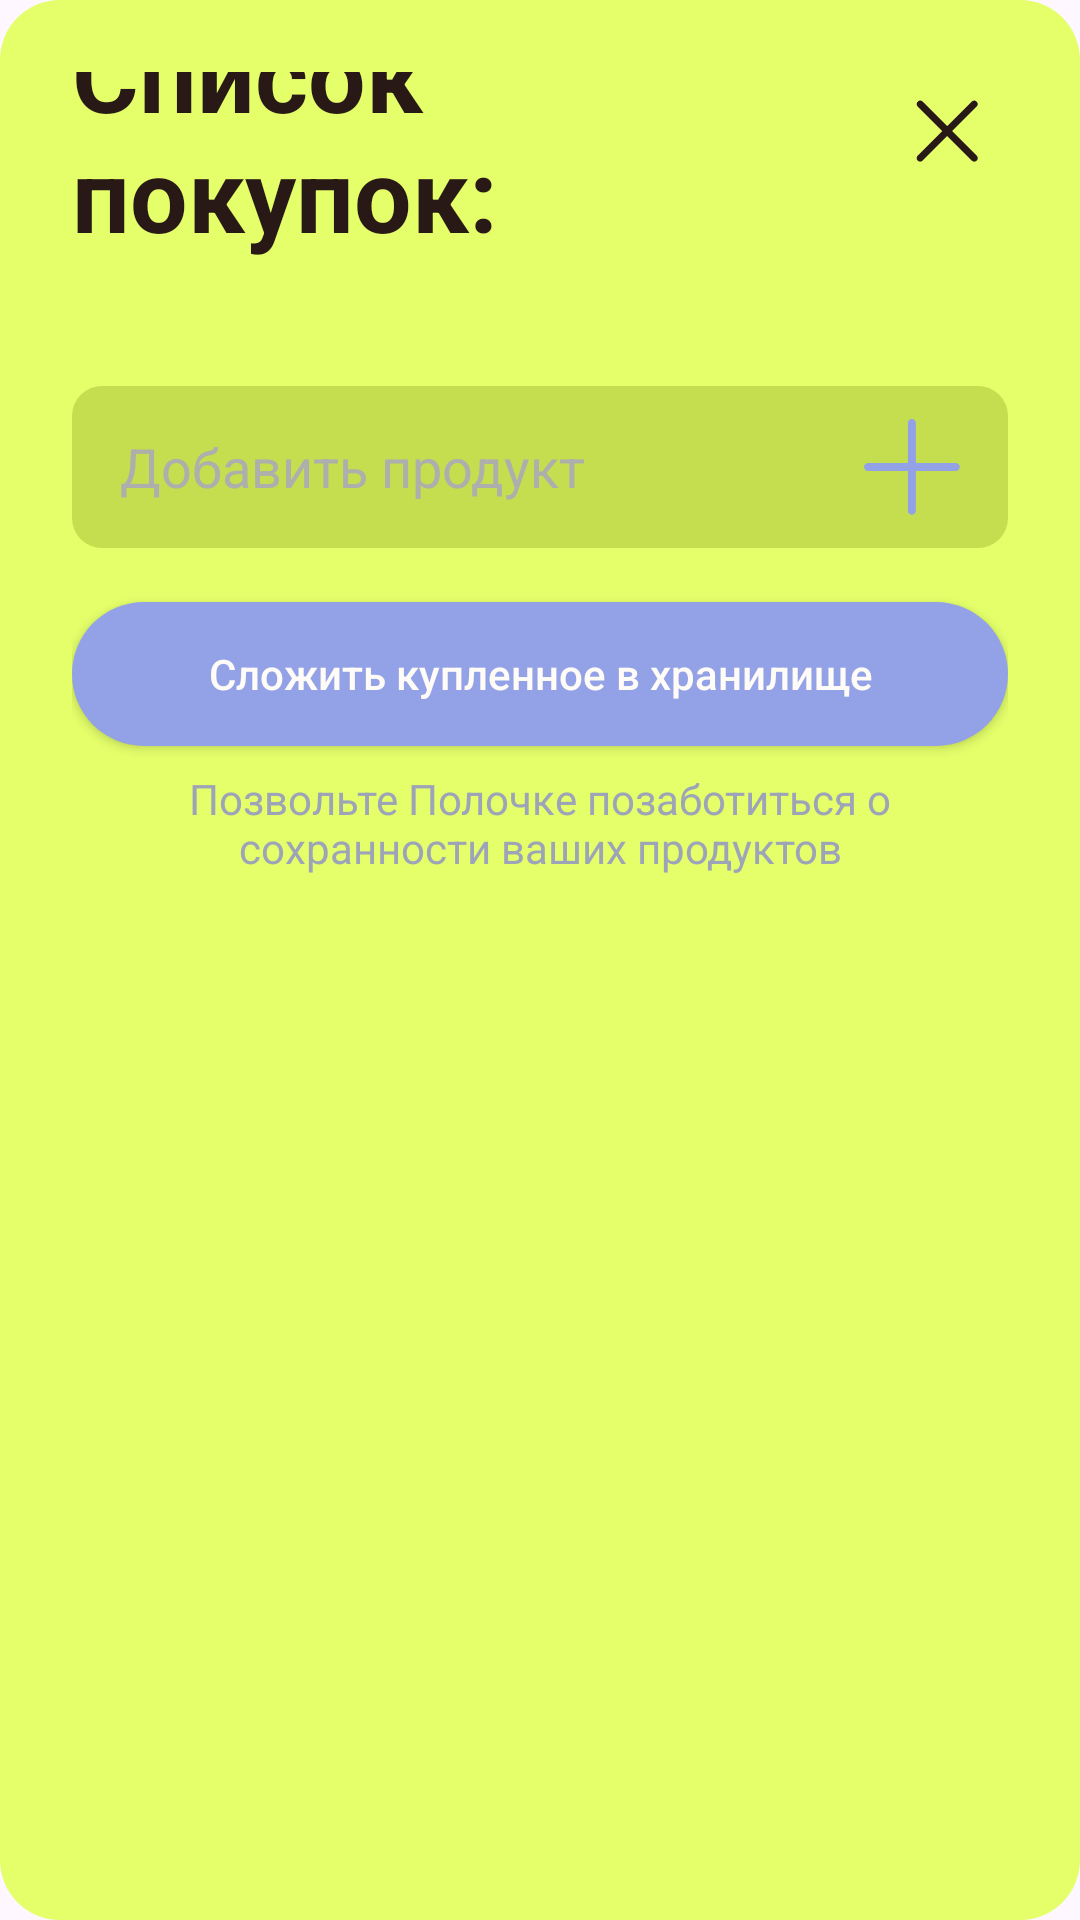

Locate icon controls on the screen. Image size 1080*1920, boxes as rect(x1, y1, x2, y2).
close: rect(916, 100, 978, 162)
